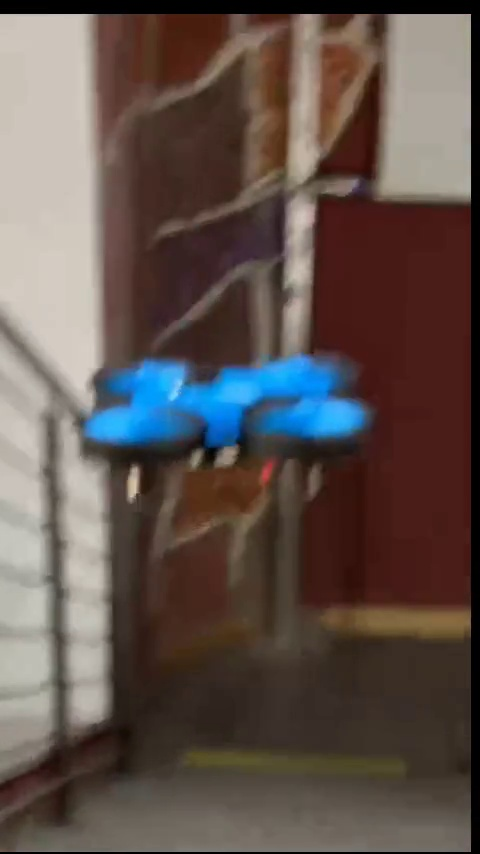drone: (81, 361, 377, 476)
